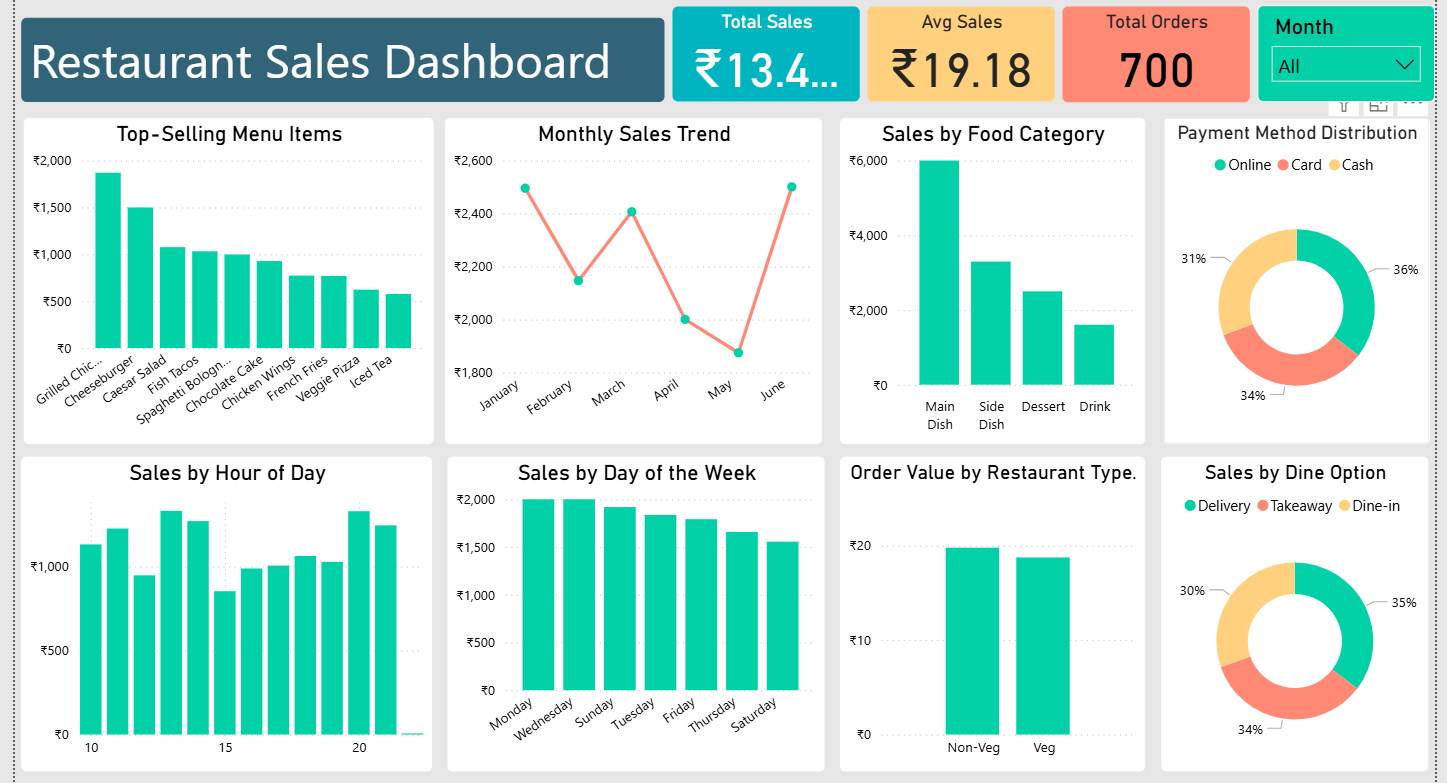

The page's visual inventory and layout, read from the dashboard file:
{"tool":"powerbi","page":{"name":"Page 1","canvas":[1280,720],"ordinal":0},"visuals":[{"type":"card","title":"Total Sales","fields":{"Values":["Table.Total Sales"]},"box":[592.7,11.4,168.8,85.6],"z":0},{"type":"card","title":"Avg Sales","fields":{"Values":["Table.Avg Order"]},"box":[768.4,11.4,168.8,85.6],"z":1000},{"type":"card","title":"Total Orders","fields":{"Values":["Table.Total Orders"]},"box":[944.1,11,169,86],"z":2000},{"type":"columnChart","title":"Top-Selling Menu Items","fields":{"Category":["Restaurant Sales.Item Name"],"Y":["Table.Total Sales"]},"box":[7.3,111.3,369.3,294.7],"z":3000},{"type":"lineChart","title":"Monthly Sales Trend","fields":{"Y":["Table.Total Sales"],"Category":["Restaurant Sales.Date.Variation.Date Hierarchy.Month"]},"box":[387.5,111.3,339.9,294.7],"z":4000},{"type":"columnChart","title":"Sales by Food Category","fields":{"Category":["Restaurant Sales.Category"],"Y":["Table.Total Sales"]},"box":[743.9,111.3,275.1,294.7],"z":5000},{"type":"donutChart","title":"Payment Method Distribution","fields":{"Category":["Restaurant Sales.Payment Method"],"Y":["Table.Total Sales"]},"box":[1035.5,111.3,239.7,294.7],"z":6000},{"type":"columnChart","title":"Sales by Hour of Day","fields":{"Category":["Restaurant Sales.Hour"],"Y":["Table.Total Sales"]},"box":[6.1,416.5,370.5,283.7],"z":7000},{"type":"columnChart","title":"Sales by Day of the Week","fields":{"Y":["Table.Total Sales"],"Category":["Restaurant Sales.Day"]},"box":[390.5,416.5,339.9,283.7],"z":8000},{"type":"clusteredColumnChart","title":"Order Value by Restaurant Type.","fields":{"Category":["Restaurant Sales.Restaurant Type"],"Y":["Restaurant Sales.Average Order Value"]},"box":[744.3,416.5,275.1,283.7],"z":9000},{"type":"donutChart","title":"Sales by Dine Option","fields":{"Category":["Restaurant Sales.Dine Type"],"Y":["Table.Total Sales"]},"box":[1033.3,416.5,240.9,283.7],"z":10000},{"type":"textbox","box":[5.6,11.3,580.5,85.7],"z":11000},{"type":"slicer","fields":{"Values":["Restaurant Sales.Date.Variation.Date Hierarchy.Month"]},"box":[1119.8,10.2,160.2,86.8],"z":12000}]}

Visuals, with their boxes on the page's 1280x720 design canvas (x1, y1, x2, y2). These are canvas units, not pixel positions in the 1447x783 screenshot, which may show the page scaled, cropped or inside an application window:
"Total Sales" card: [593, 11, 762, 97]
"Avg Sales" card: [768, 11, 937, 97]
"Total Orders" card: [944, 11, 1113, 97]
"Top-Selling Menu Items" columnChart: [7, 111, 377, 406]
"Monthly Sales Trend" lineChart: [388, 111, 727, 406]
"Sales by Food Category" columnChart: [744, 111, 1019, 406]
"Payment Method Distribution" donutChart: [1036, 111, 1275, 406]
"Sales by Hour of Day" columnChart: [6, 416, 377, 700]
"Sales by Day of the Week" columnChart: [390, 416, 730, 700]
"Order Value by Restaurant Type." clusteredColumnChart: [744, 416, 1019, 700]
"Sales by Dine Option" donutChart: [1033, 416, 1274, 700]
textbox: [6, 11, 586, 97]
slicer - Restaurant Sales.Date.Variation.Date Hierarchy.Month: [1120, 10, 1280, 97]
